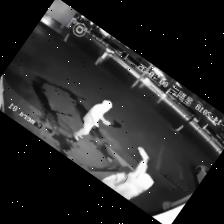person: (102, 147, 152, 199), (72, 100, 111, 140)
